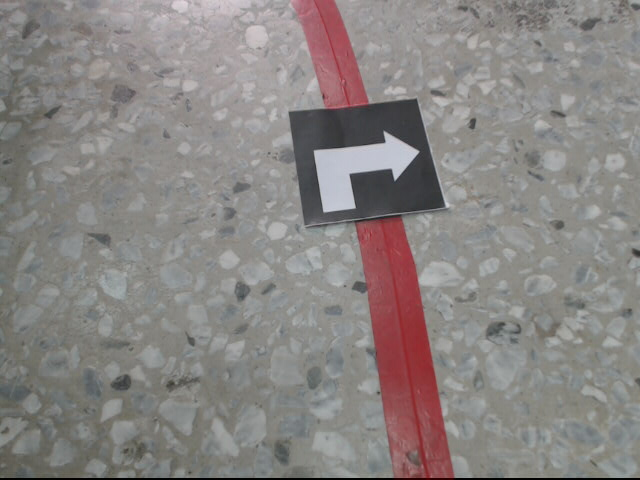right: (289, 96, 449, 228)
